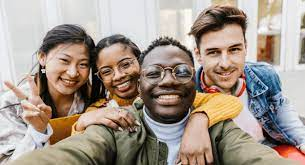face: (139, 59, 193, 115), (194, 35, 249, 87), (51, 50, 89, 96), (101, 54, 139, 98)
